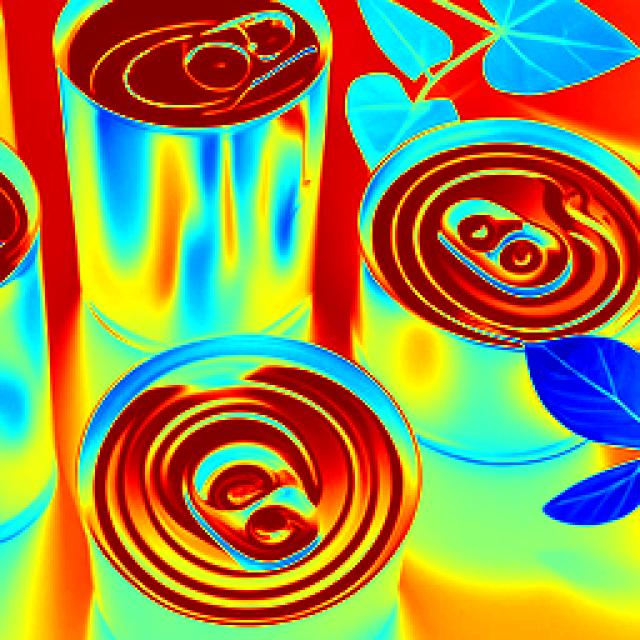Aluminium Food Cans: (64, 350, 395, 598), (369, 129, 616, 447), (59, 7, 341, 262)
